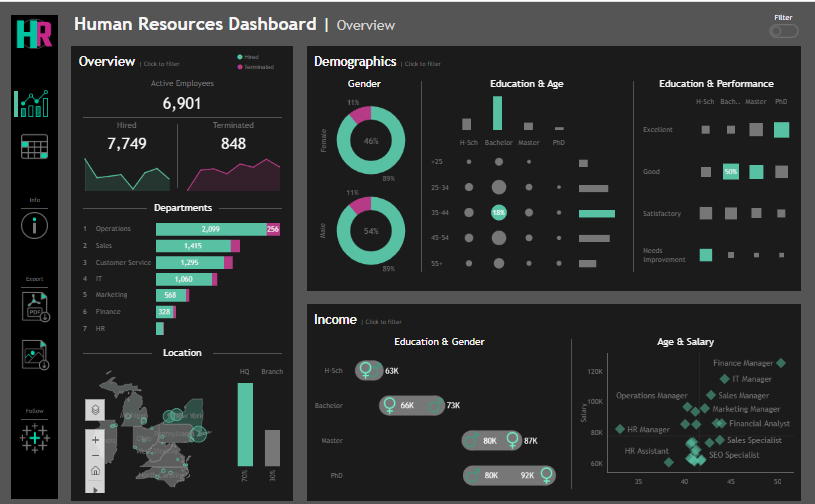

The dashboard page shown, as its layout file describes it:
{"tool":"tableau","page":{"name":"HR | Summary","canvas":[1225,765],"ordinal":1},"visuals":[{"type":"blank","box":[89,0,1135,255]},{"type":"text","box":[110,0,585.5,66]},{"type":"blank","box":[695.5,0,509.5,66]},{"type":"text","box":[1149,9,58,26]},{"type":"filter","title":"Gender vs Education Levels","param":"[federated.13sqgpt0xigker12hwmo50ab8zad].[none:Gender:nk]","box":[638,10,128,46]},{"type":"filter","title":"Gender vs Education Levels","param":"[federated.13sqgpt0xigker12hwmo50ab8zad].[none:Calculation_1518346427070259214:n","box":[766,10,128,46]},{"type":"filter","title":"Gender vs Education Levels","param":"[federated.13sqgpt0xigker12hwmo50ab8zad].[none:Calculation_1518346426531352581:n","box":[894,10,127,46]},{"type":"filter","title":"Gender vs Education Levels","param":"[federated.13sqgpt0xigker12hwmo50ab8zad].[yr:Hiredate:ok]","box":[1021,10,127,46]},{"type":"image","param":"Image/Logo.png","box":[20,20,70,55]},{"type":"dashboard-object","box":[1156,26,46,34]},{"type":"text","box":[117,73,319,31]},{"type":"text","box":[359,73,76,30]},{"type":"text","box":[470,73,728,31]},{"type":"blank","box":[30,85,50,47.1]},{"type":"text","box":[117,104,319,28]},{"type":"text","box":[470,109,159,26]},{"type":"blank","box":[634,109,1,306]},{"type":"text","box":[640,109,307,26]},{"type":"blank","box":[952,109,1,306]},{"type":"text","box":[958,109,240,26]},{"type":"worksheet","title":"BAN Active","mark":"Text","box":[117,132,319,39]},{"type":"dashboard-object","box":[30,132.1,50,40]},{"type":"blank","box":[24,133,6,40]},{"type":"worksheet","title":"Gender","mark":"Pie","rows":["Gender"],"cols":["Calculation_1518346426540793867","Calculation_1518346426540793867"],"box":[470,135,159,280]},{"type":"worksheet","title":"Education Levels","mark":"Bar","rows":["Calculation_1518346426523398144"],"cols":["Education Level"],"box":[640,135,307,61]},{"type":"worksheet","title":"Education vs Performance","mark":"Square","rows":["Performance Rating"],"cols":["Education Level"],"box":[958,135,240,280]},{"type":"blank","box":[117,171,319,1]},{"type":"text","box":[117,172,152.3,22]},{"type":"blank","box":[269.3,172,1,116]},{"type":"text","box":[270.3,172,165.7,22]},{"type":"blank","box":[30,172.1,50,25]},{"type":"worksheet","title":"BAN Hired","mark":"Text","box":[117,194,152.3,32]},{"type":"worksheet","title":"BAN Terminated","mark":"Text","box":[270.3,194,165.7,32]},{"type":"worksheet","title":"Age Vs Education","mark":"Circle","rows":["Calculation_1518346426820354061"],"cols":["Education Level"],"box":[640,196,228,219]},{"type":"worksheet","title":"Age Groups","mark":"Bar","rows":["Calculation_1518346426820354061"],"cols":["Calculation_1518346426523398144"],"box":[868,196,65,219]},{"type":"dashboard-object","box":[30,197.1,50,40]},{"type":"worksheet","title":"Hired By Year","mark":"Line","rows":["Calculation_1518346426523398144","Calculation_1518346426523398144"],"cols":["Hiredate"],"box":[117,226,152.3,62]},{"type":"worksheet","title":"Terminated By Year","mark":"Line","rows":["Calculation_1518346426523635713","Calculation_1518346426523635713"],"cols":["Termdate"],"box":[270.3,226,165.7,62]},{"type":"blank","box":[30,237.1,50,47.1]},{"type":"text","box":[89,255,1135,195]},{"type":"text","box":[30,284.3,50,20]},{"type":"blank","box":[127,293,96,30]},{"type":"text","box":[223,293,109,30]},{"type":"blank","box":[332,293,94,30]},{"type":"blank","box":[30,304.3,50,11]},{"type":"dashboard-object","box":[30,315.3,50,40]},{"type":"worksheet","title":"Departments","mark":"Bar","rows":["Calculation_1518346426530234372","Department"],"cols":["Calculation_1518346426523398144"],"box":[117,323,319,183]},{"type":"blank","box":[30,355.3,50,47.1]},{"type":"text","box":[30,402.4,50,20]},{"type":"blank","box":[30,422.4,50,11]},{"type":"dashboard-object","box":[30,433.4,50,47.1]},{"type":"blank","box":[89,450,1135,315]},{"type":"text","box":[470,460,728,31]},{"type":"blank","box":[30,480.6,50,25]},{"type":"text","box":[470,496,384,26]},{"type":"blank","box":[859,496,1,245]},{"type":"text","box":[865,496,333,26]},{"type":"dashboard-object","box":[30,505.6,50,47.1]},{"type":"blank","box":[127,511,103.7,30]},{"type":"text","box":[230.7,511,91.7,30]},{"type":"blank","box":[322.3,511,103.7,30]},{"type":"worksheet","title":"Gender vs Education Levels","mark":"Square","rows":["Education Level"],"cols":["Salary","Salary"],"box":[470,522,384,219]},{"type":"worksheet","title":"Age vs Salary","mark":"Shape","rows":["Salary"],"cols":["Calculation_1518346426711904268"],"box":[865,522,333,219]},{"type":"worksheet","title":"Map States","mark":"Multipolygon","box":[117,541,228,200]},{"type":"worksheet","title":"Location","mark":"Bar","rows":["Calculation_1518346426523398144"],"cols":["Calculation_1518346426531352581","Calculation1"],"box":[345,541,91,200]},{"type":"blank","box":[30,552.7,50,47.1]},{"type":"text","box":[30,599.9,50,20]},{"type":"blank","box":[30,619.9,50,11]},{"type":"image","param":"Image/contact-public.png","box":[30,630.9,50,47.2]},{"type":"blank","box":[20,688,70,50]}]}

Visuals, with their boxes on the page's 1225x765 design canvas (x1, y1, x2, y2). These are canvas units, not pixel positions in the 815x504 screenshot, which may show the page scaled, cropped or inside an application window:
blank: bbox(89, 0, 1224, 255)
text: bbox(110, 0, 696, 66)
blank: bbox(696, 0, 1205, 66)
text: bbox(1149, 9, 1207, 35)
"Gender vs Education Levels" filter: bbox(638, 10, 766, 56)
"Gender vs Education Levels" filter: bbox(766, 10, 894, 56)
"Gender vs Education Levels" filter: bbox(894, 10, 1021, 56)
"Gender vs Education Levels" filter: bbox(1021, 10, 1148, 56)
image: bbox(20, 20, 90, 75)
dashboard-object: bbox(1156, 26, 1202, 60)
text: bbox(117, 73, 436, 104)
text: bbox(359, 73, 435, 103)
text: bbox(470, 73, 1198, 104)
blank: bbox(30, 85, 80, 132)
text: bbox(117, 104, 436, 132)
text: bbox(470, 109, 629, 135)
blank: bbox(634, 109, 635, 415)
text: bbox(640, 109, 947, 135)
blank: bbox(952, 109, 953, 415)
text: bbox(958, 109, 1198, 135)
"BAN Active" worksheet (Text marks): bbox(117, 132, 436, 171)
dashboard-object: bbox(30, 132, 80, 172)
blank: bbox(24, 133, 30, 173)
"Gender" worksheet (Pie marks): bbox(470, 135, 629, 415)
"Education Levels" worksheet (Bar marks): bbox(640, 135, 947, 196)
"Education vs Performance" worksheet (Square marks): bbox(958, 135, 1198, 415)
blank: bbox(117, 171, 436, 172)
text: bbox(117, 172, 269, 194)
blank: bbox(269, 172, 270, 288)
text: bbox(270, 172, 436, 194)
blank: bbox(30, 172, 80, 197)
"BAN Hired" worksheet (Text marks): bbox(117, 194, 269, 226)
"BAN Terminated" worksheet (Text marks): bbox(270, 194, 436, 226)
"Age Vs Education" worksheet (Circle marks): bbox(640, 196, 868, 415)
"Age Groups" worksheet (Bar marks): bbox(868, 196, 933, 415)
dashboard-object: bbox(30, 197, 80, 237)
"Hired By Year" worksheet (Line marks): bbox(117, 226, 269, 288)
"Terminated By Year" worksheet (Line marks): bbox(270, 226, 436, 288)
blank: bbox(30, 237, 80, 284)
text: bbox(89, 255, 1224, 450)
text: bbox(30, 284, 80, 304)
blank: bbox(127, 293, 223, 323)
text: bbox(223, 293, 332, 323)
blank: bbox(332, 293, 426, 323)
blank: bbox(30, 304, 80, 315)
dashboard-object: bbox(30, 315, 80, 355)
"Departments" worksheet (Bar marks): bbox(117, 323, 436, 506)
blank: bbox(30, 355, 80, 402)
text: bbox(30, 402, 80, 422)
blank: bbox(30, 422, 80, 433)
dashboard-object: bbox(30, 433, 80, 480)
blank: bbox(89, 450, 1224, 765)
text: bbox(470, 460, 1198, 491)
blank: bbox(30, 481, 80, 506)
text: bbox(470, 496, 854, 522)
blank: bbox(859, 496, 860, 741)
text: bbox(865, 496, 1198, 522)
dashboard-object: bbox(30, 506, 80, 553)
blank: bbox(127, 511, 231, 541)
text: bbox(231, 511, 322, 541)
blank: bbox(322, 511, 426, 541)
"Gender vs Education Levels" worksheet (Square marks): bbox(470, 522, 854, 741)
"Age vs Salary" worksheet (Shape marks): bbox(865, 522, 1198, 741)
"Map States" worksheet (Multipolygon marks): bbox(117, 541, 345, 741)
"Location" worksheet (Bar marks): bbox(345, 541, 436, 741)
blank: bbox(30, 553, 80, 600)
text: bbox(30, 600, 80, 620)
blank: bbox(30, 620, 80, 631)
image: bbox(30, 631, 80, 678)
blank: bbox(20, 688, 90, 738)
